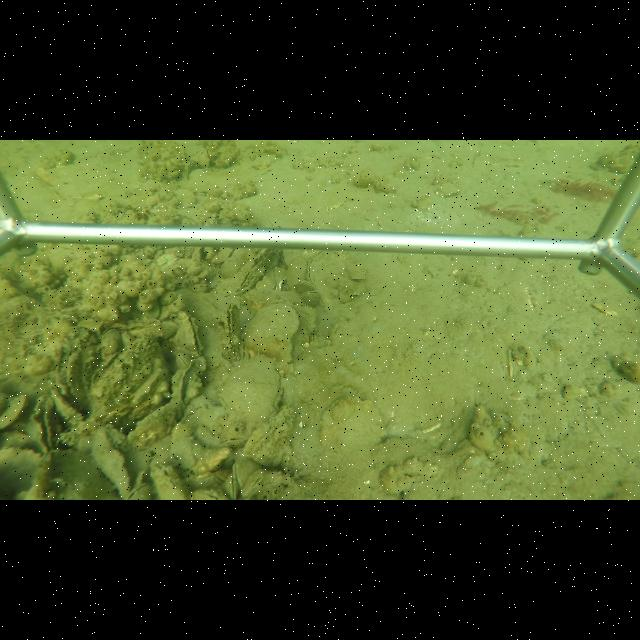Oyster-Closed: (85, 331, 170, 427), (215, 354, 283, 428), (167, 402, 229, 472), (306, 251, 368, 313), (244, 302, 302, 366), (241, 403, 297, 468), (230, 249, 283, 297), (216, 303, 243, 363), (150, 460, 187, 500), (175, 308, 203, 357), (238, 469, 267, 498), (214, 435, 245, 449)
Oyster-Open: (172, 358, 208, 407), (30, 392, 54, 454)
